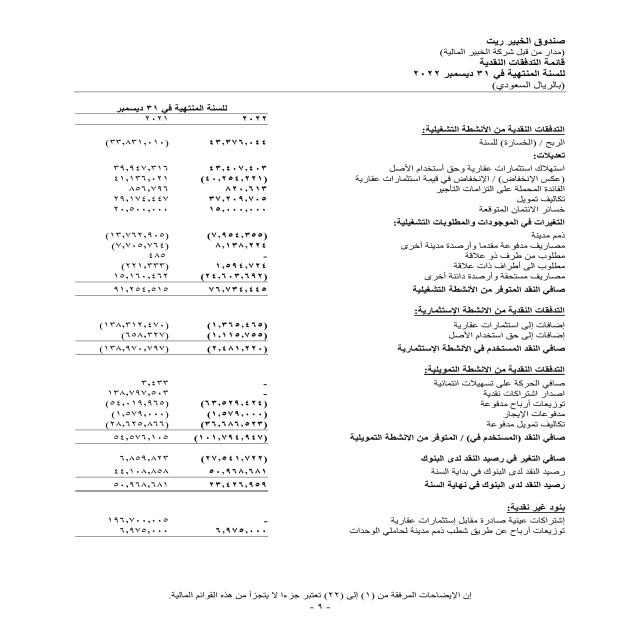financial_sheets: (472, 58, 574, 68)
table: (44, 92, 296, 548)
